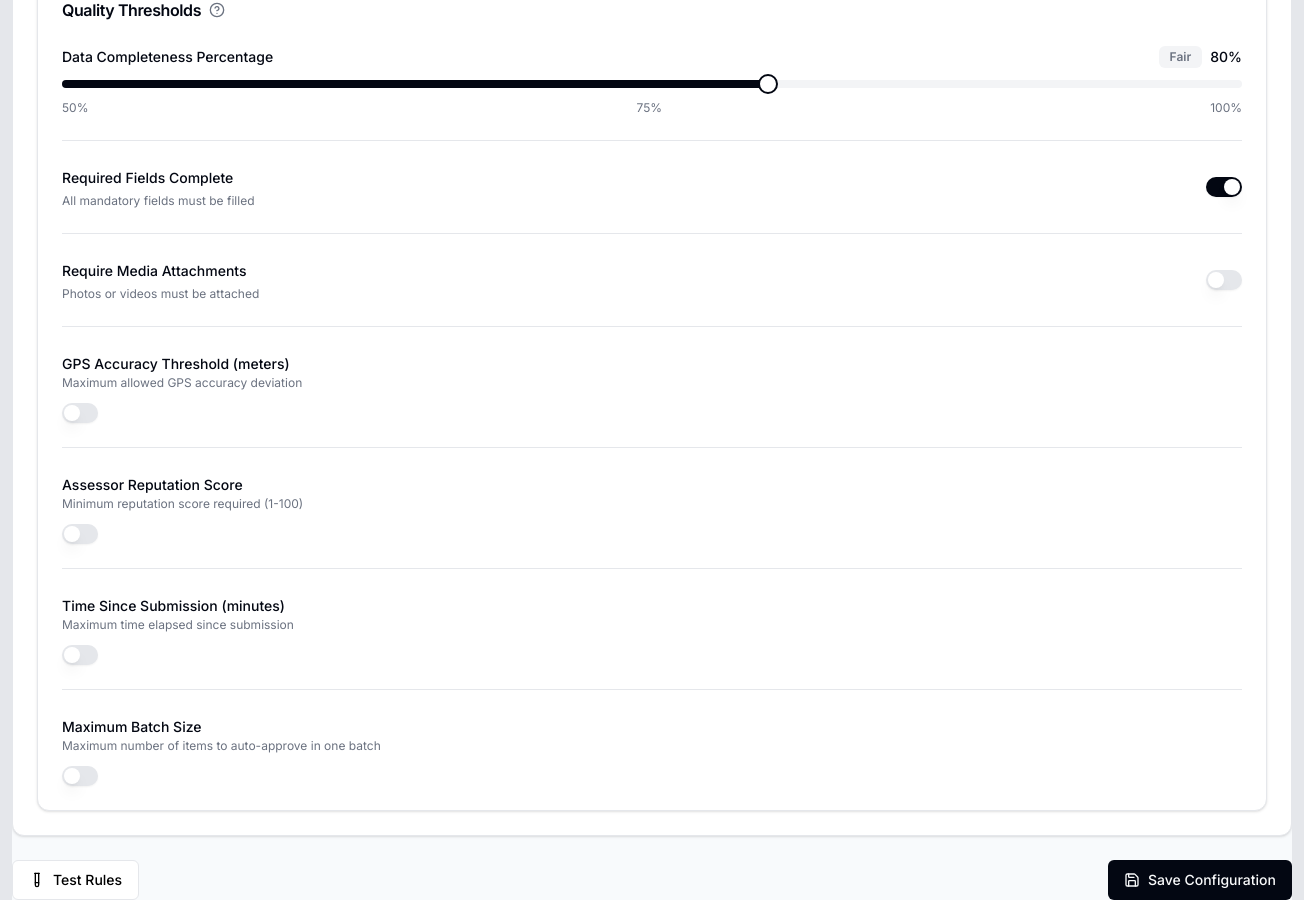
it: AutoApprovalConfiguration › displays test results when available
The width and height of the screenshot is (1304, 900).
(page scrolled)
Click the button "Test Rules": (76, 880) [12, 860, 139, 899]
(page scrolled)
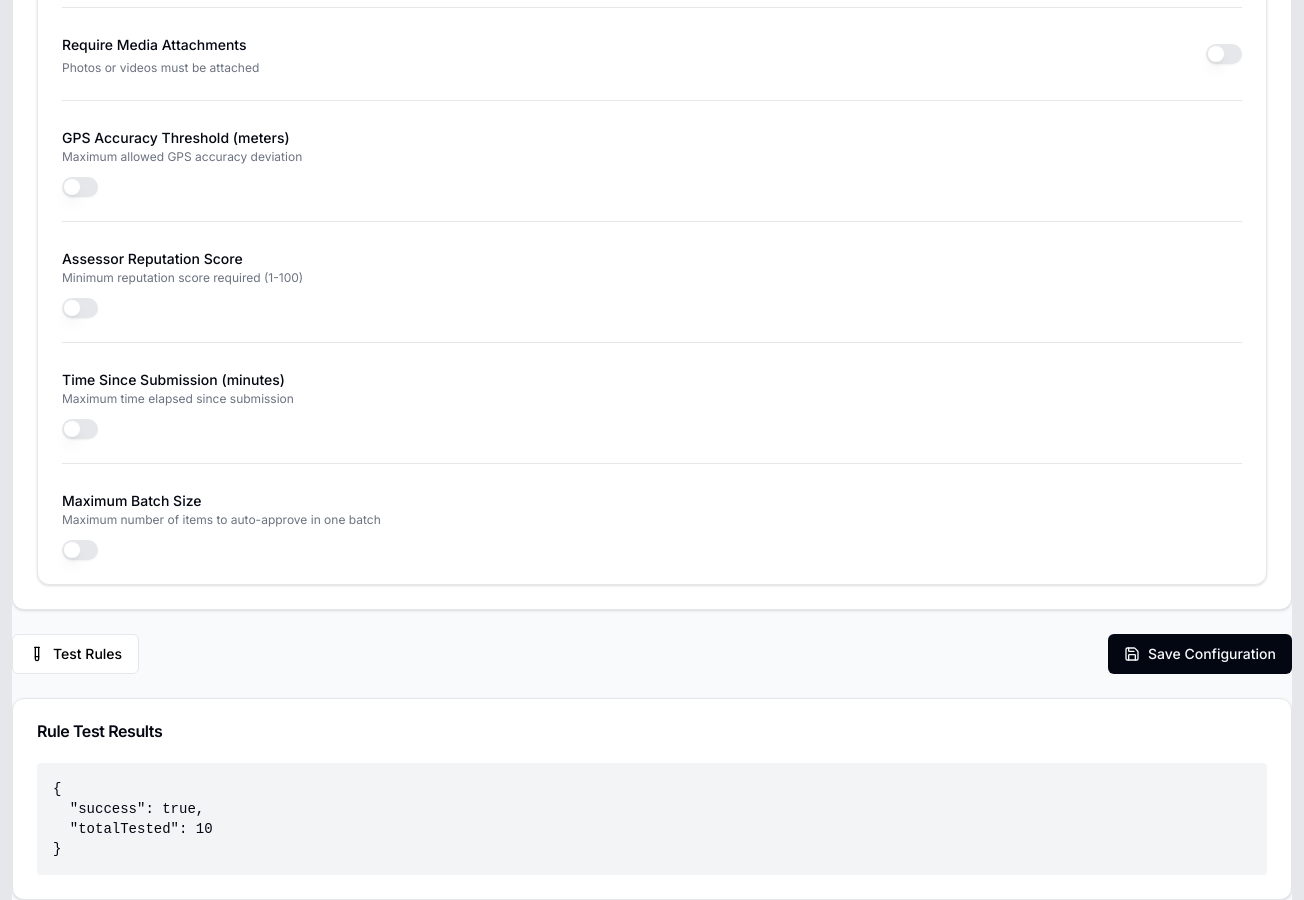
Check: the text "Rule Test Results" is shown, box [37, 721, 162, 741]
